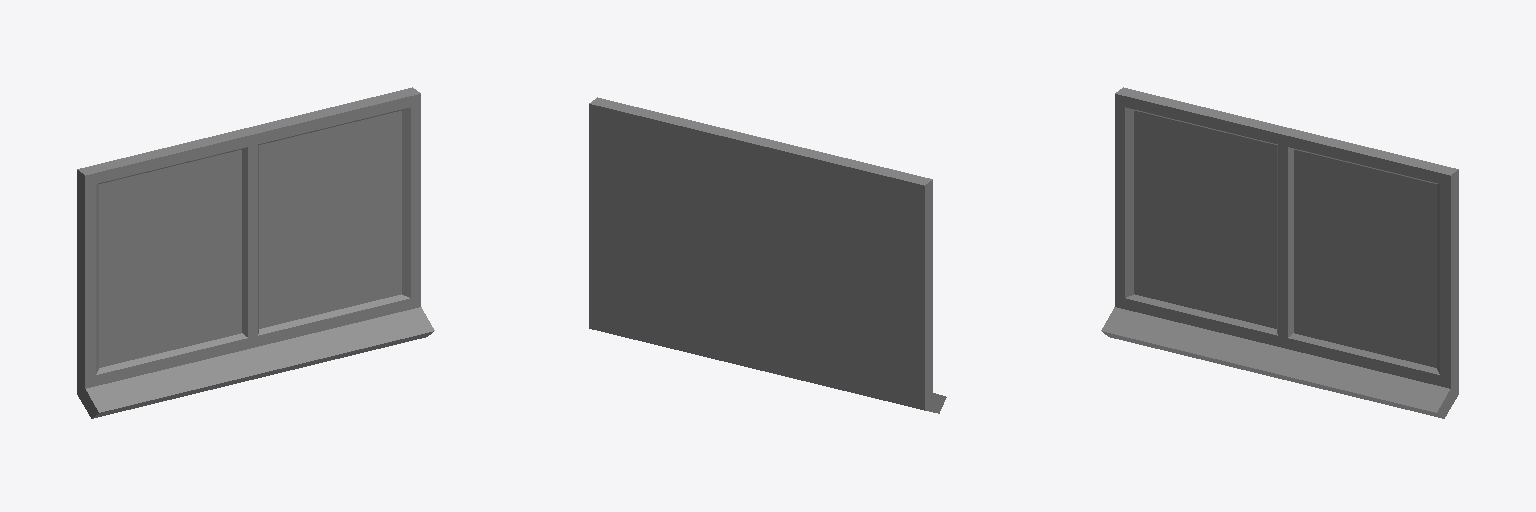
The model's file is double_window_standard.obj.
3 renders of one model, left to right at view 1: azimuth 30°, elevation 25°; view 2: azimuth 150°, elevation 25°; view 3: azimuth 330°, elevation 25°, orthographic.
Parts seen in each view (by area): view 1: Box001; view 2: Box001; view 3: Box001.
Boxes of the visible parts, <box> form: Box001: <box>77,87,434,418</box>; Box001: <box>589,97,946,413</box>; Box001: <box>1101,87,1458,418</box>.
Size of the model in its own units: 11.9 by 8.09 by 1.36.